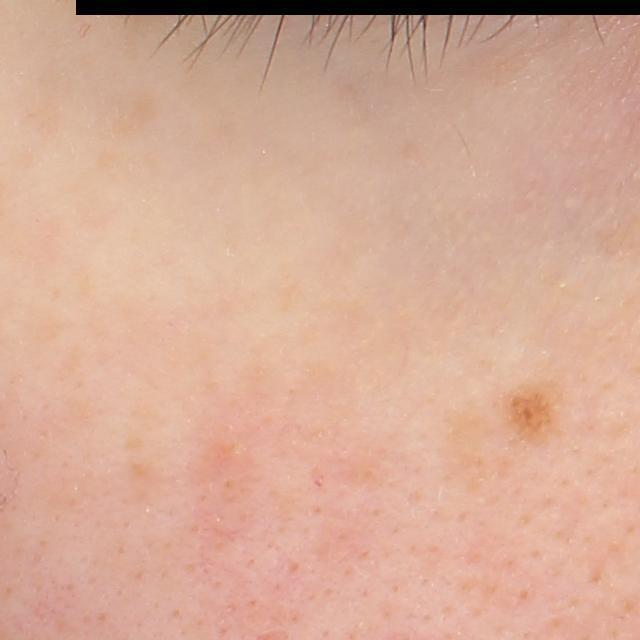melasma: (61, 153, 136, 232), (462, 52, 523, 110), (12, 84, 65, 141), (104, 94, 161, 139)
nevus: (508, 376, 562, 442)
